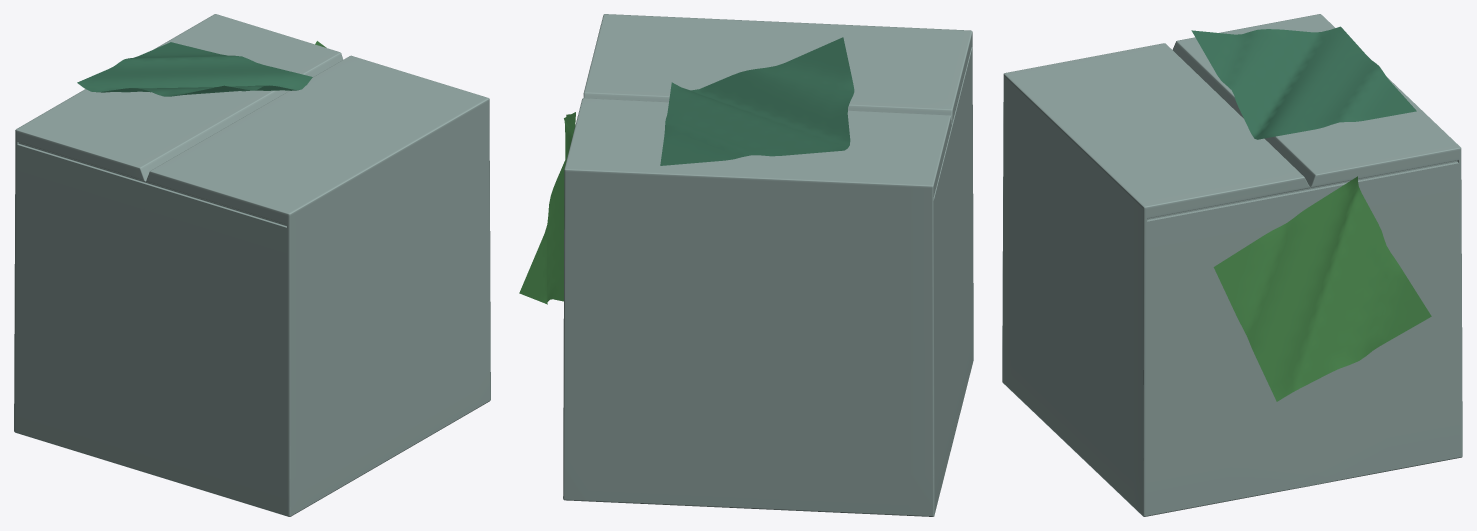
The model's file is Caja3_high.fbx.
3 views of the same model, side by side, from view 1: azimuth 30°, elevation 25°; view 2: azimuth 150°, elevation 25°; view 3: azimuth 270°, elevation 25° (orthographic). The views are drawn at different scales.
Visible parts, largest first — view 1: Caja3_high; view 2: Caja3_high; view 3: Caja3_high.
Boxes of the visible parts, x1=… form: Caja3_high: x1=14, y1=14, x2=490, y2=516; Caja3_high: x1=519, y1=14, x2=973, y2=516; Caja3_high: x1=1002, y1=14, x2=1462, y2=516.
Size of the model in its own units: 3.79 by 3.32 by 3.79.
